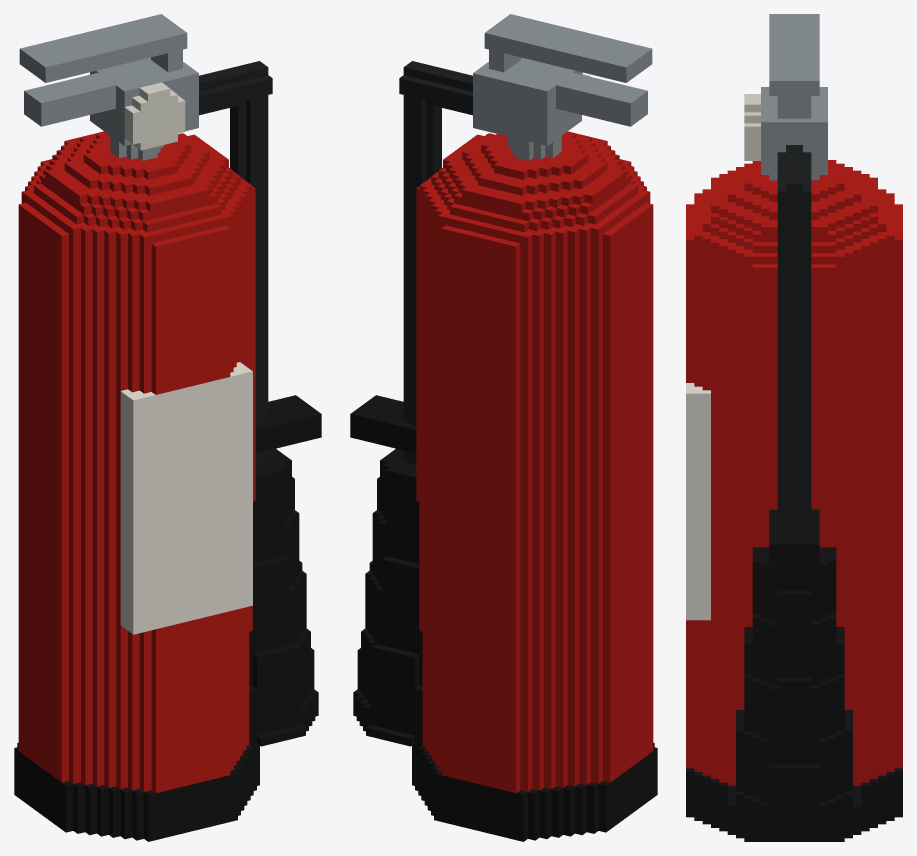
File: sm_extinguisher.glb
3 renders of one model, left to right at view 1: azimuth 30°, elevation 25°; view 2: azimuth 150°, elevation 25°; view 3: azimuth 270°, elevation 25°, orthographic. The views are drawn at different scales.
Parts seen in each view (by area): view 1: sm_extinguisher:compound; view 2: sm_extinguisher:compound; view 3: sm_extinguisher:compound.
Part boxes in pixels (box(x1,y1,x2,y2)): sm_extinguisher:compound: box(14, 14, 321, 841); sm_extinguisher:compound: box(350, 14, 657, 841); sm_extinguisher:compound: box(686, 14, 902, 841).
Size of the model in its own units: 0.148 by 0.388 by 0.104.
